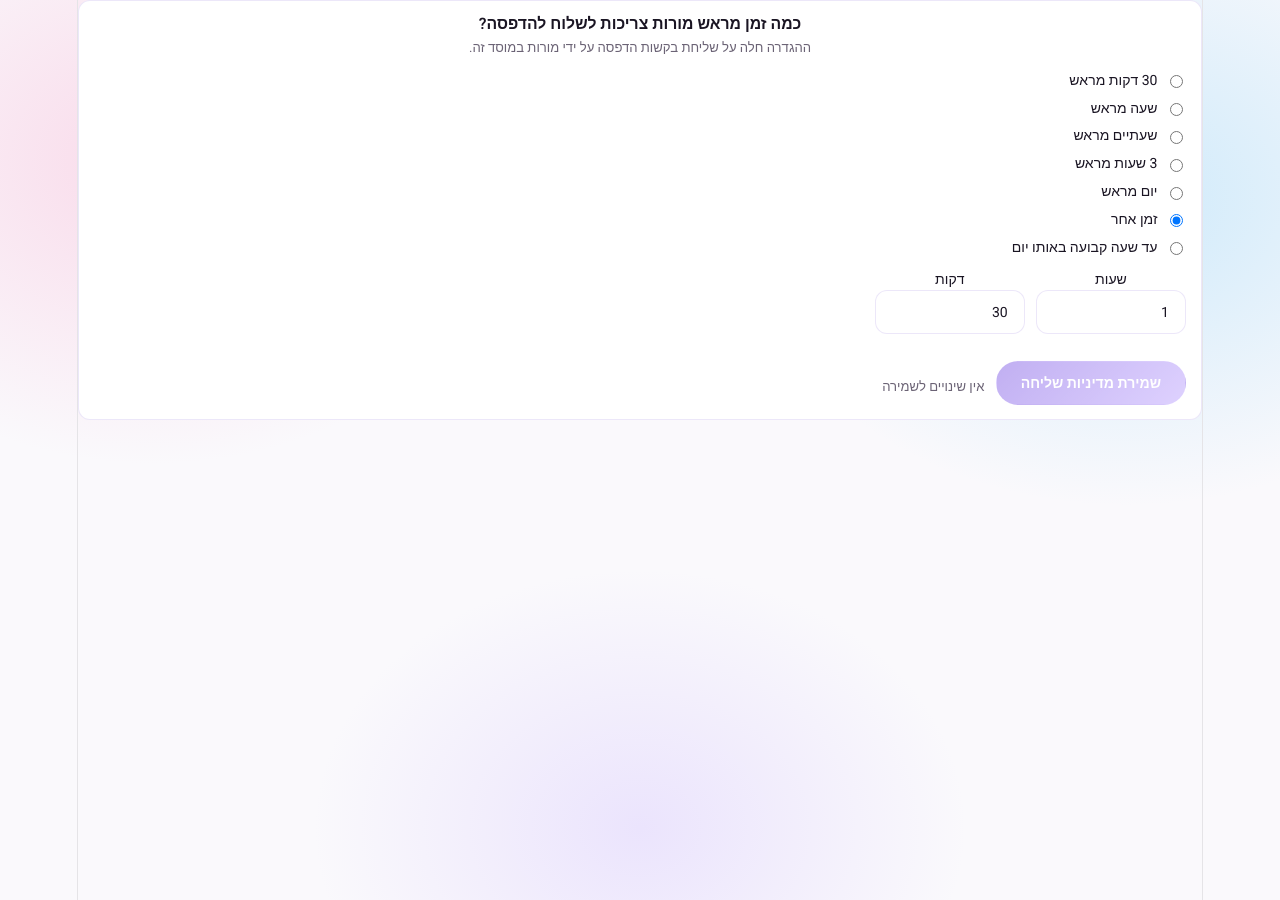
PrintingSubmissionPolicySettings › rejects invalid custom range client-side without RPC
Replace the text in the number field labelled "שעות" with "200" at coordinates (1111, 312), box [1036,290,1186,334]
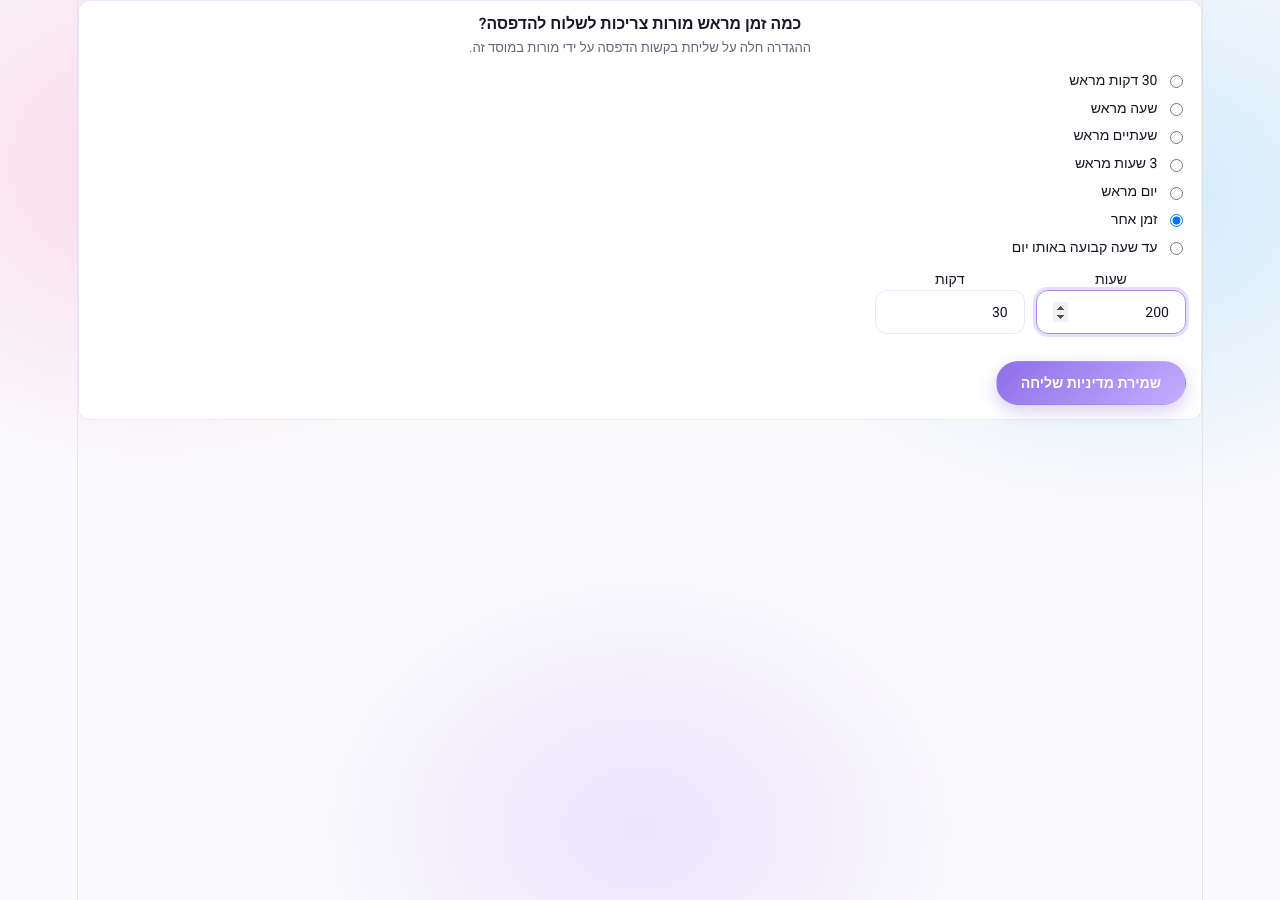
Click the button "שמירת מדיניות שליחה" at coordinates (1091, 384), box [996,362,1186,406]
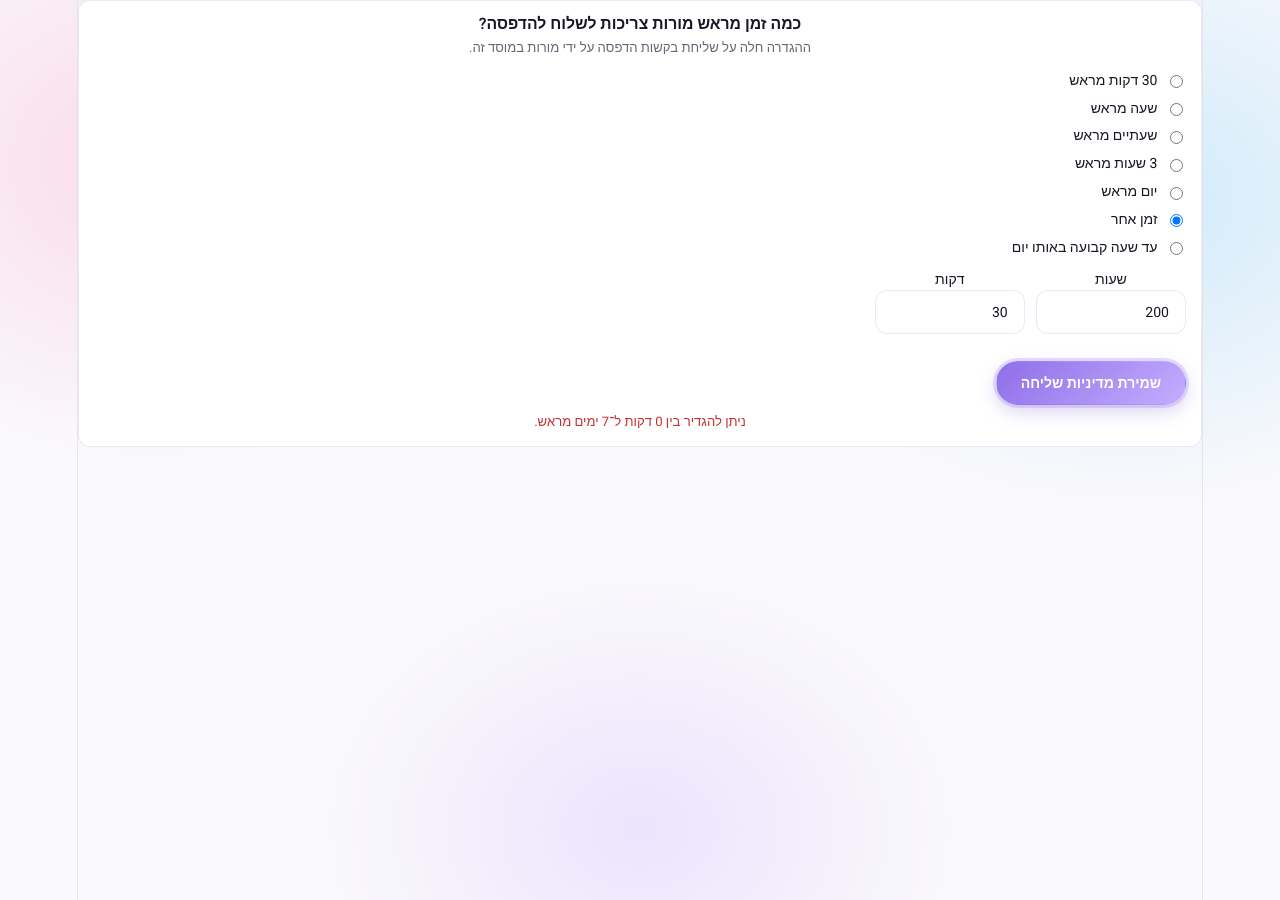
Check: the message shows "7 ימים", box [534,412,746,432]
